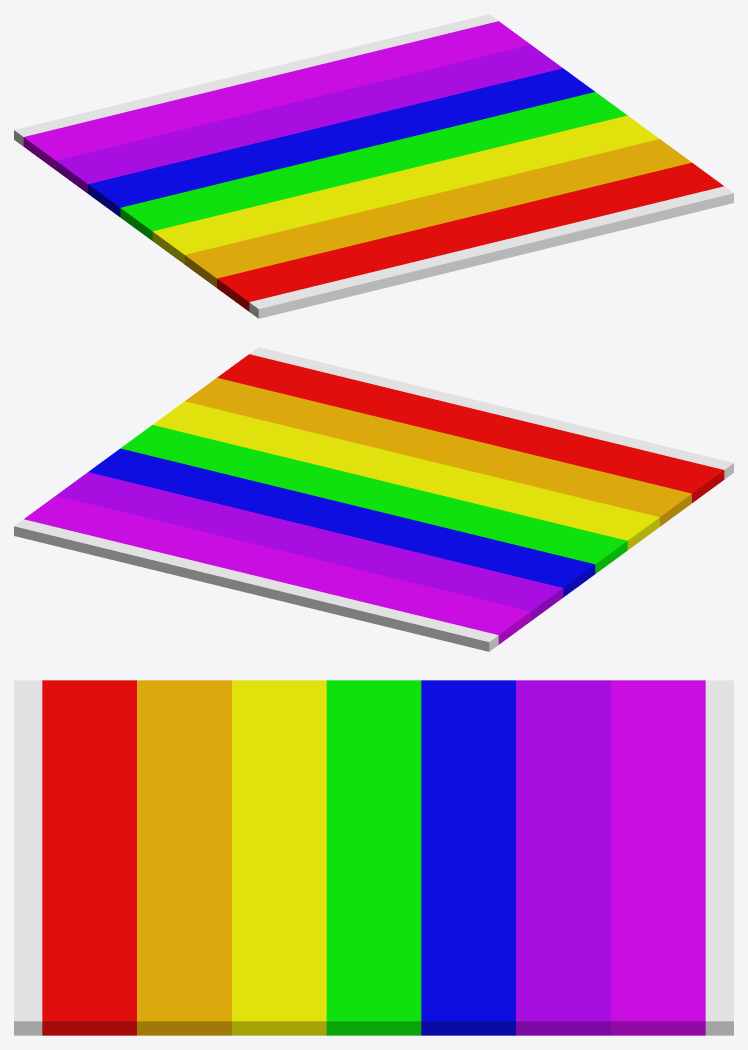
File: rainbowRoad.fbx
3 renders of one model, top to bottom at view 1: azimuth 30°, elevation 25°; view 2: azimuth 150°, elevation 25°; view 3: azimuth 270°, elevation 25°, orthographic. The views are drawn at different scales.
Visible parts, largest first — view 1: rainbowRoad; view 2: rainbowRoad; view 3: rainbowRoad.
Part boxes in pixels (box(x1,y1,x2,y2)): rainbowRoad: box(14, 14, 733, 318); rainbowRoad: box(14, 347, 733, 651); rainbowRoad: box(14, 680, 733, 1035).
Size of the model in its own units: 55.19 by 1.08 by 49.25.
